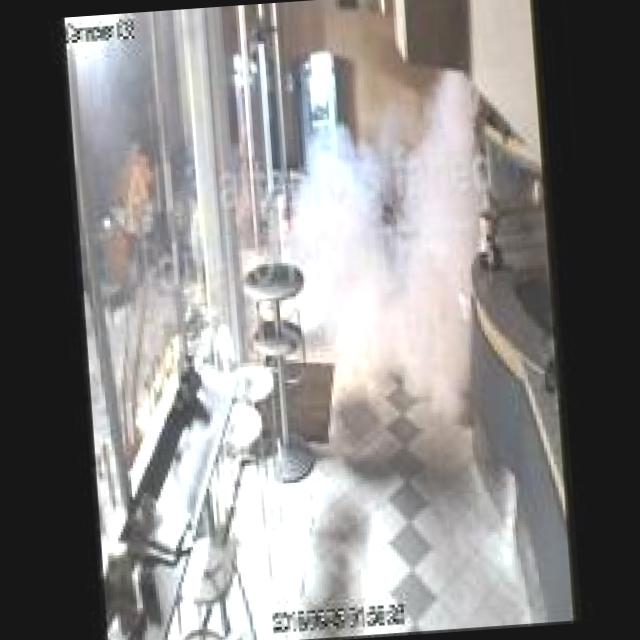smoke: (278, 60, 516, 406)
